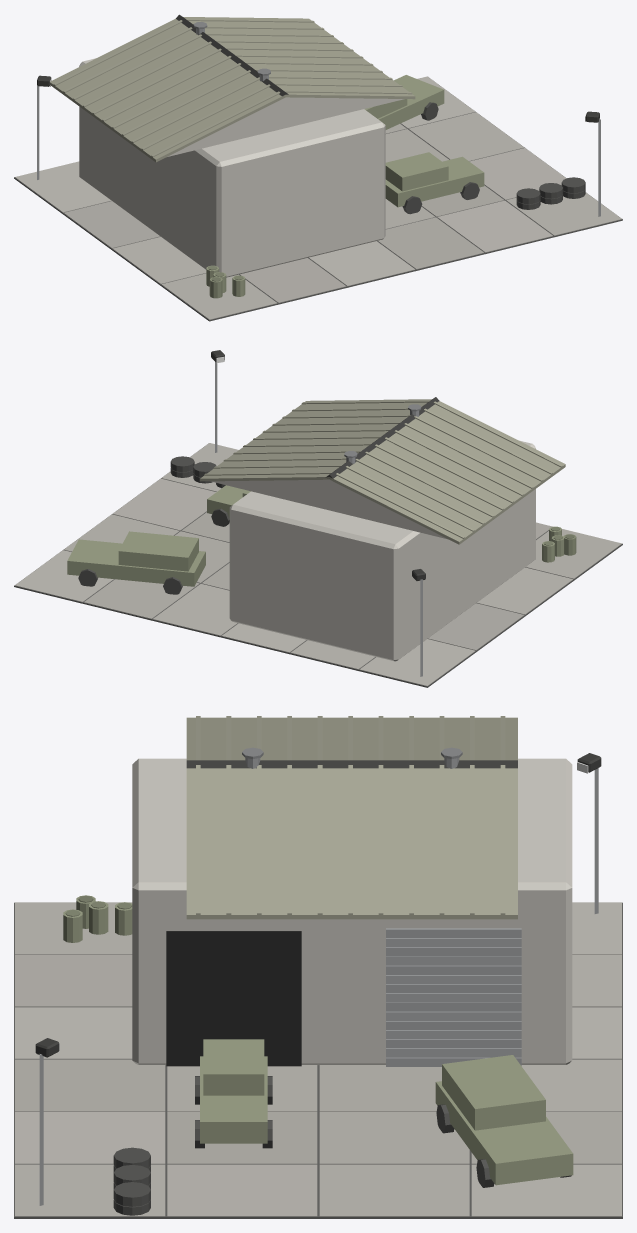
File: b_motorpool.glb
3 views of the same model, one above another, from view 1: azimuth 30°, elevation 25°; view 2: azimuth 150°, elevation 25°; view 3: azimuth 270°, elevation 25° (orthographic). The views are drawn at different scales.
Parts seen in each view (by area): view 1: hull; view 2: hull; view 3: hull.
Part boxes in pixels (x1,y1,x2,y2): hull: (14, 14, 622, 321); hull: (14, 350, 622, 687); hull: (14, 716, 622, 1218).
Bounding box in the file's own units: 22 × 8.23 × 18.
